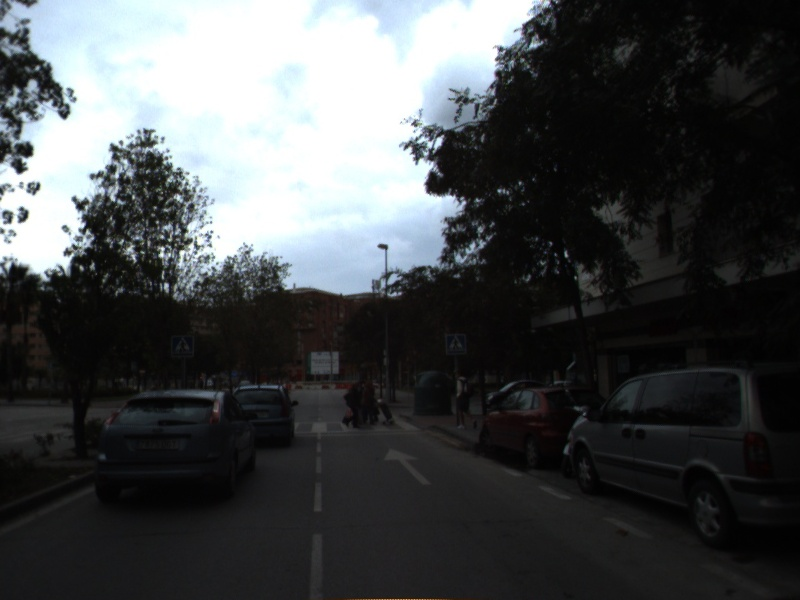STRAIGHT: (382, 446, 434, 486)
